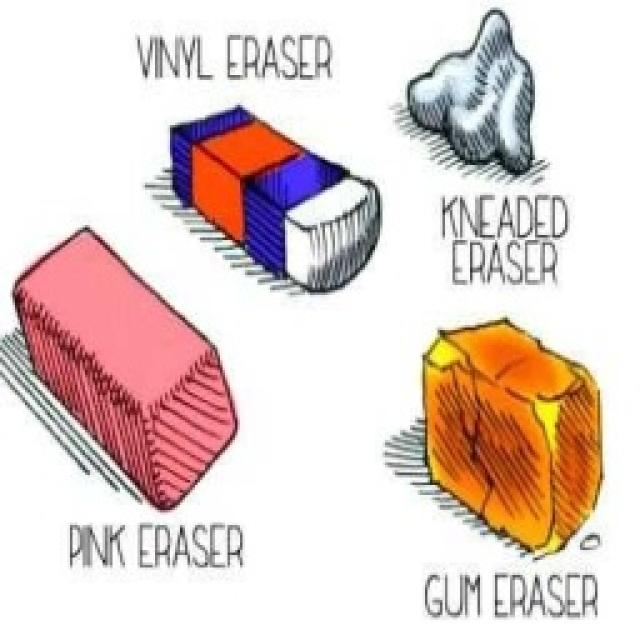Silgi: (12, 229, 242, 513), (168, 104, 385, 296)
